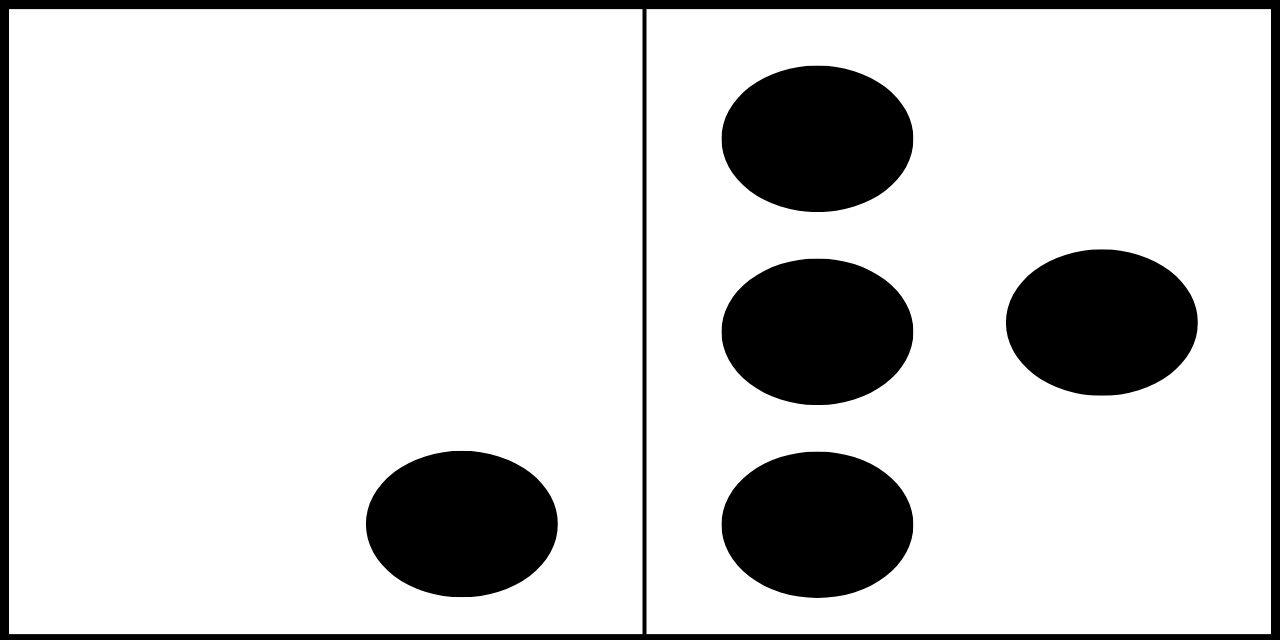R: (722, 66, 1198, 601)
capital: (177, 80, 558, 598)
